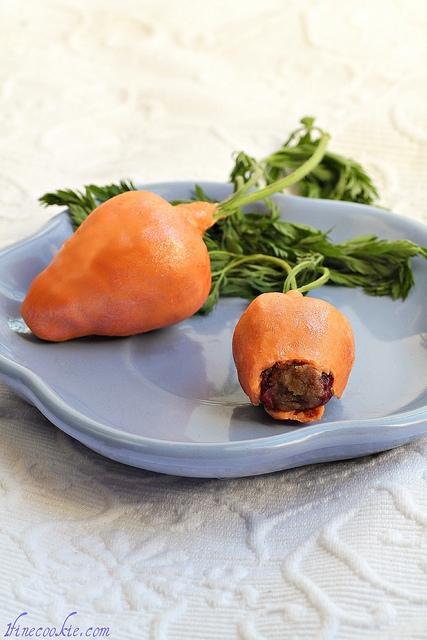carrot: (39, 180, 426, 422), (20, 132, 329, 342)
